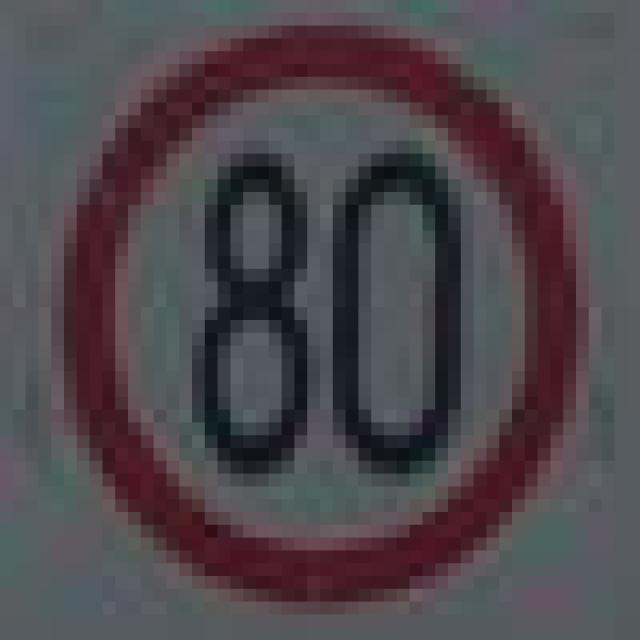speed_limit_50: (51, 13, 563, 589)
